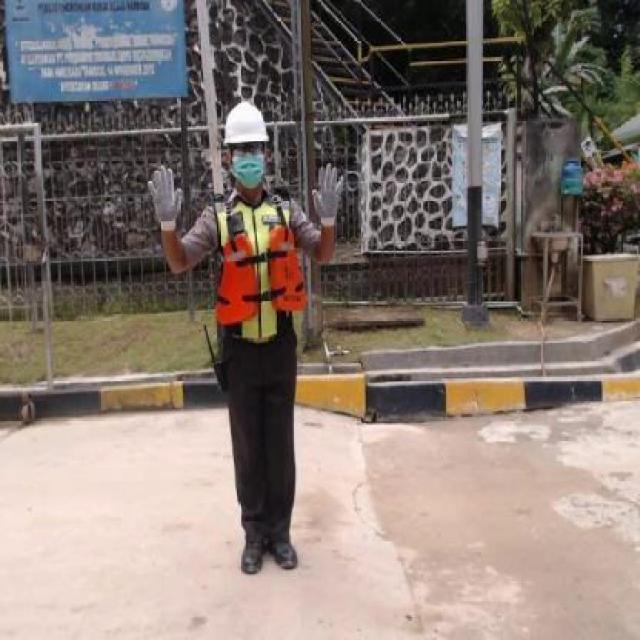Boots: (267, 540, 302, 571), (240, 538, 268, 576)
Gloves: (147, 164, 184, 231), (310, 161, 345, 228)
Helmet: (222, 100, 270, 142)
Mask: (232, 155, 266, 187)
Protective Glasses: (232, 143, 266, 155)
Vest: (214, 223, 308, 325)
